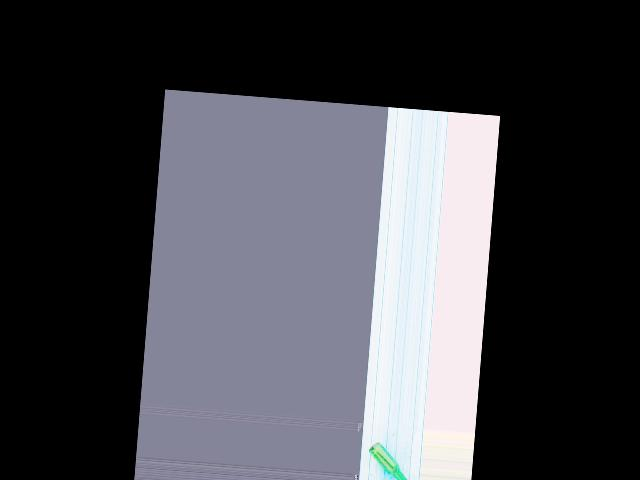beer: (365, 440, 416, 480)
